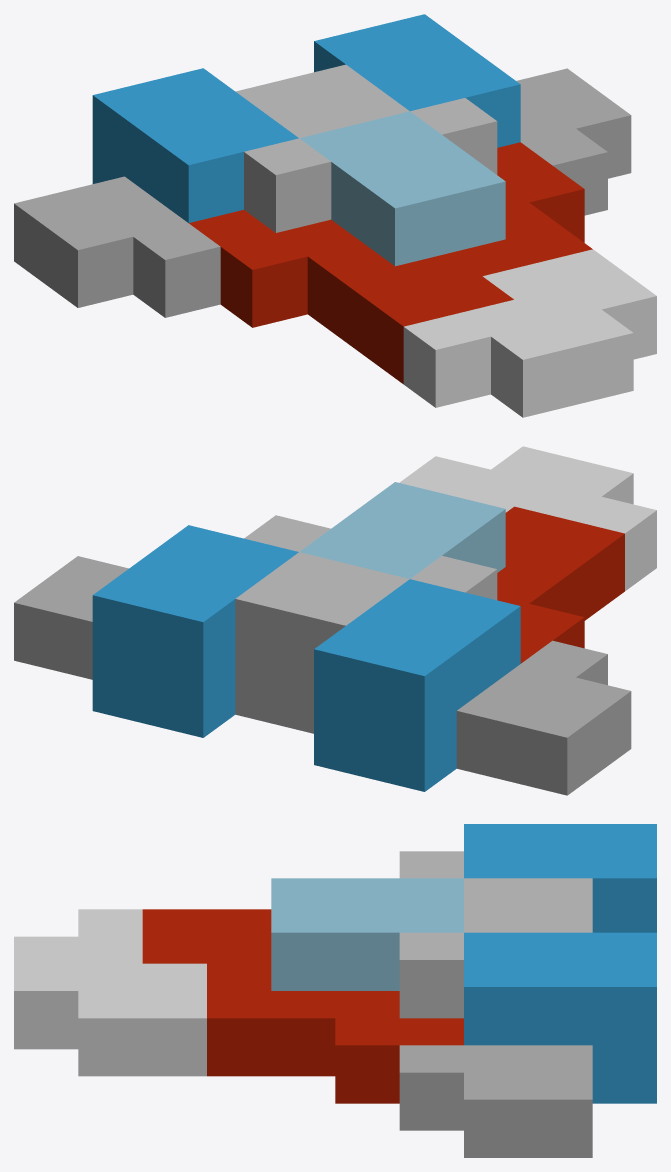
File: Ship_broken.fbx
3 renders of one model, top to bottom at view 1: azimuth 30°, elevation 25°; view 2: azimuth 150°, elevation 25°; view 3: azimuth 270°, elevation 25°, orthographic.
Visible parts, largest first — view 1: Matrix_1, Matrix_5, Matrix, Matrix_2, Matrix_3, Compound, Matrix_6; view 2: Matrix_1, Matrix_5, Matrix_3, Matrix_2, Compound, Matrix; view 3: Matrix_2, Matrix_5, Matrix_3, Matrix, Matrix_1, Compound, Matrix_6.
Boxes of the visible parts, x1=… form: Matrix_1: x1=14, y1=68, x2=307, y2=327; Matrix_5: x1=244, y1=111, x2=513, y2=384; Matrix: x1=403, y1=249, x2=656, y2=417; Matrix_2: x1=370, y1=14, x2=631, y2=215; Matrix_3: x1=314, y1=27, x2=584, y2=242; Compound: x1=180, y1=64, x2=409, y2=151; Matrix_6: x1=451, y1=226, x2=592, y2=276; Matrix_1: x1=314, y1=592, x2=631, y2=795; Matrix_5: x1=300, y1=482, x2=624, y2=620; Matrix_3: x1=148, y1=515, x2=330, y2=737; Matrix_2: x1=14, y1=525, x2=243, y2=724; Compound: x1=235, y1=552, x2=464, y2=733; Matrix: x1=399, y1=446, x2=656, y2=590; Matrix_2: x1=399, y1=960, x2=656, y2=1157; Matrix_5: x1=142, y1=851, x2=463, y2=990; Matrix_3: x1=271, y1=932, x2=656, y2=1103; Matrix: x1=14, y1=909, x2=206, y2=1076; Matrix_1: x1=464, y1=824, x2=656, y2=932; Compound: x1=464, y1=851, x2=592, y2=932; Matrix_6: x1=207, y1=963, x2=271, y2=1076.
Size of the model in its own units: 10 by 2 by 10.
